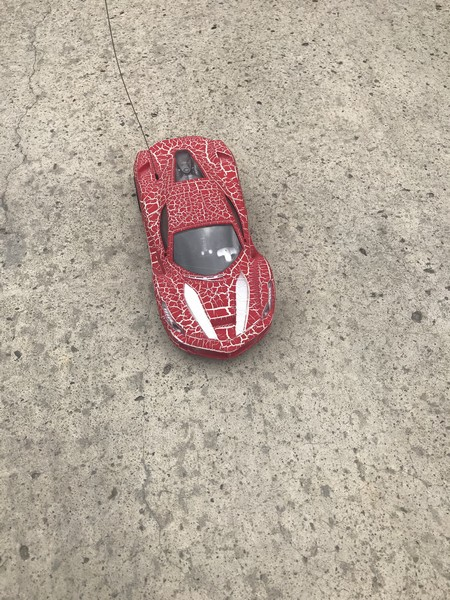RC: (131, 133, 278, 362)
